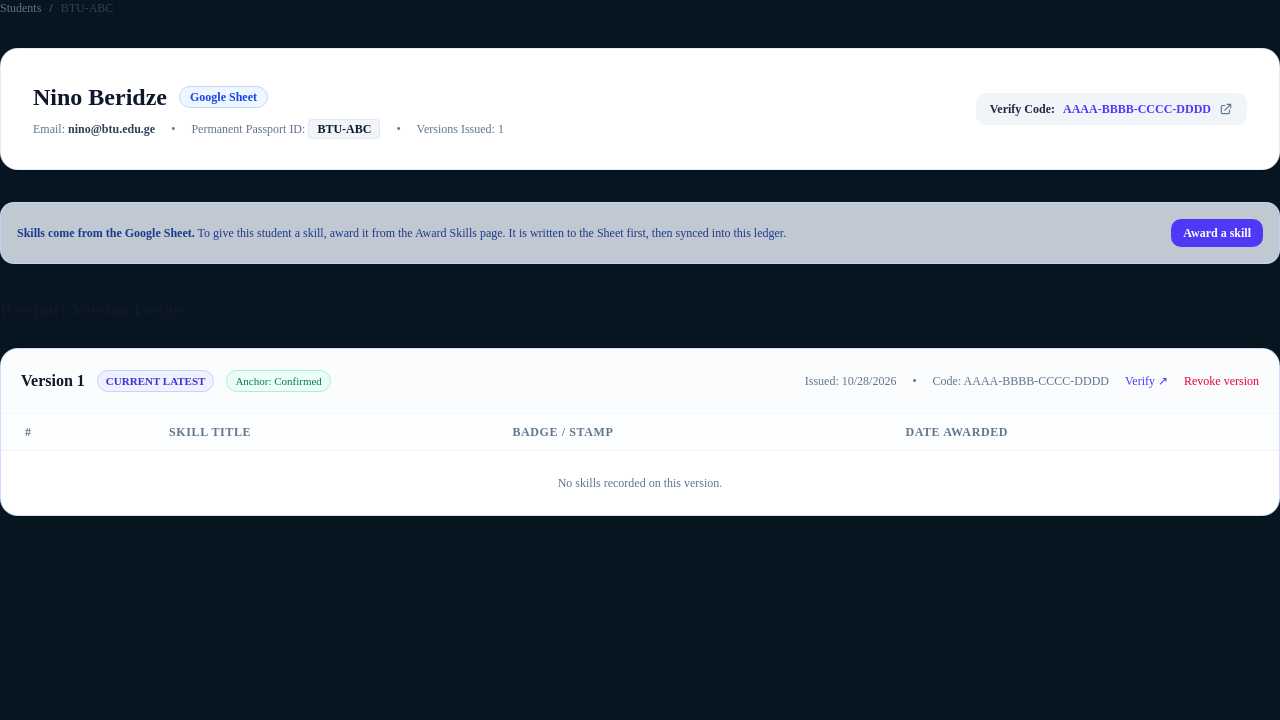
Test case: admin student detail revocation controls › shows the error when the action fails
Click the button "Revoke version" at (1222, 381), box x1=1184 y1=373 x2=1259 y2=389
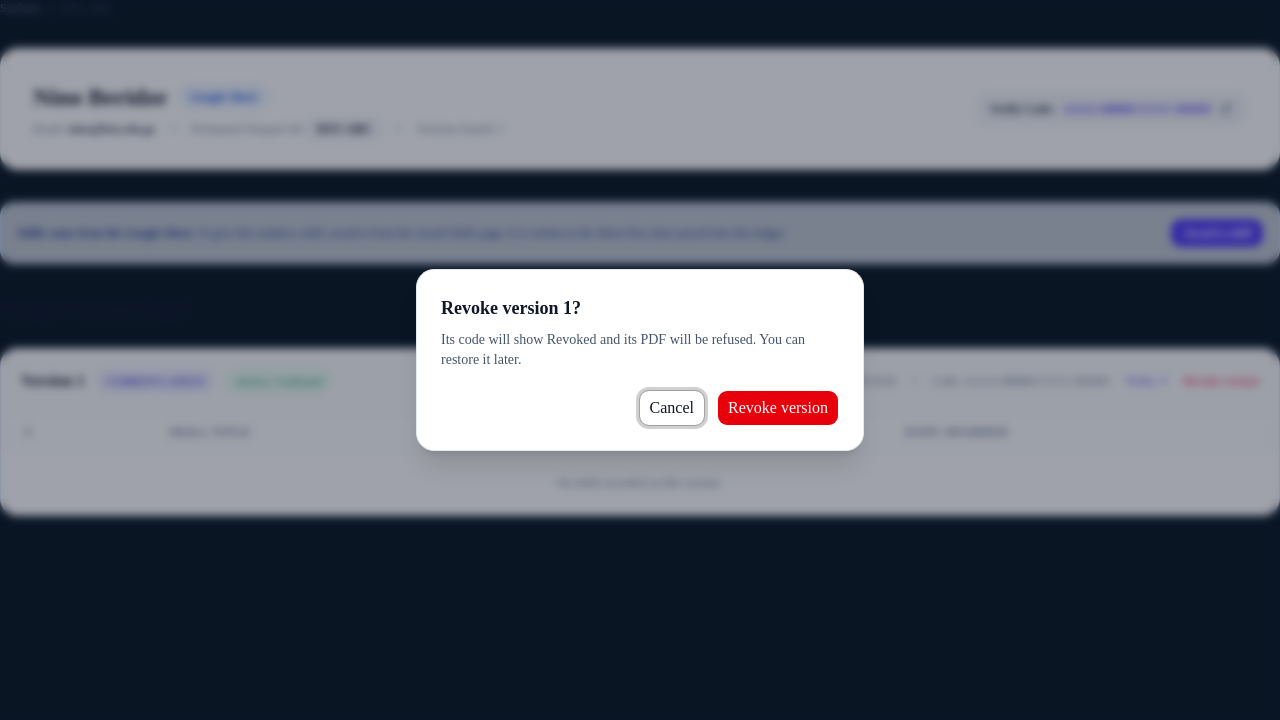
Click the button "Revoke version" at (778, 408), box x1=717 y1=390 x2=839 y2=426
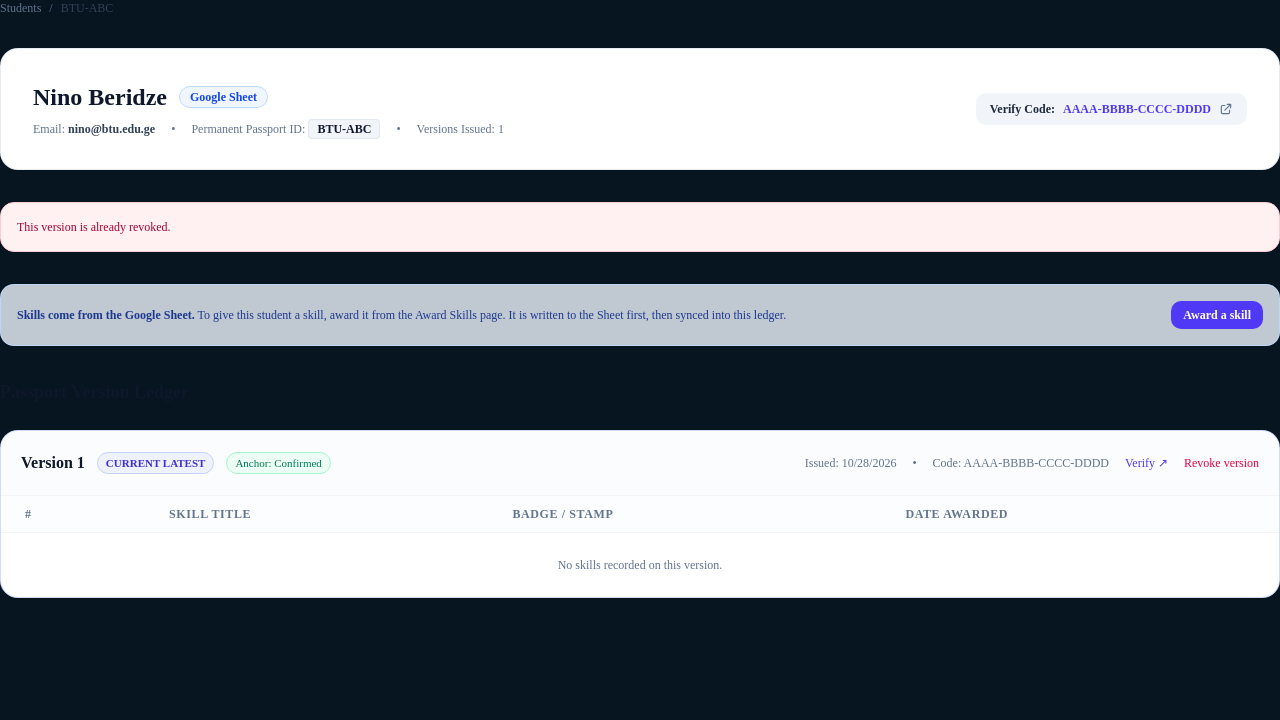
Expected: the message reads "This version is already revoked.", x1=17 y1=220 x2=171 y2=234
